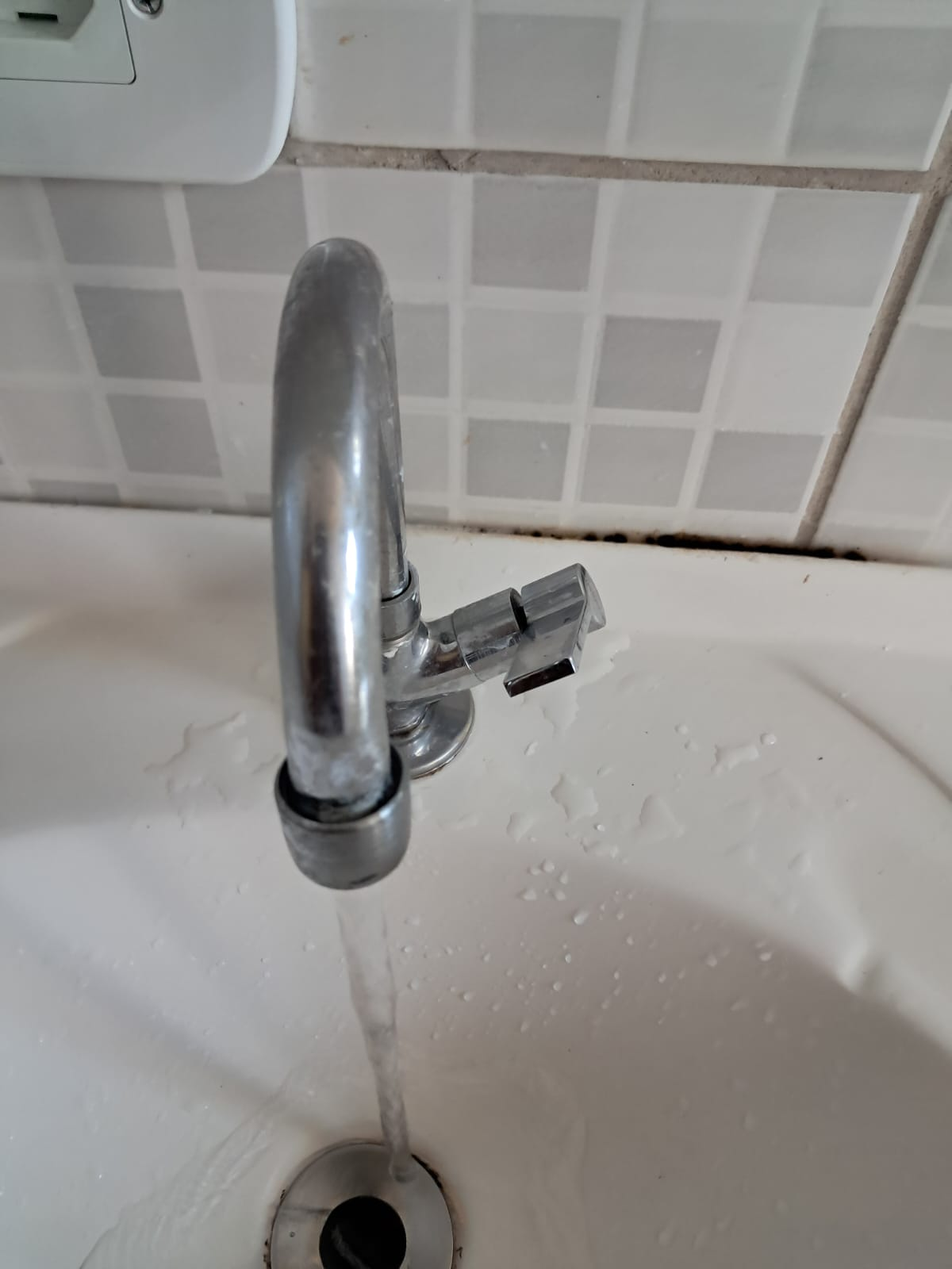torneira_aberta: (200, 224, 633, 1208)
